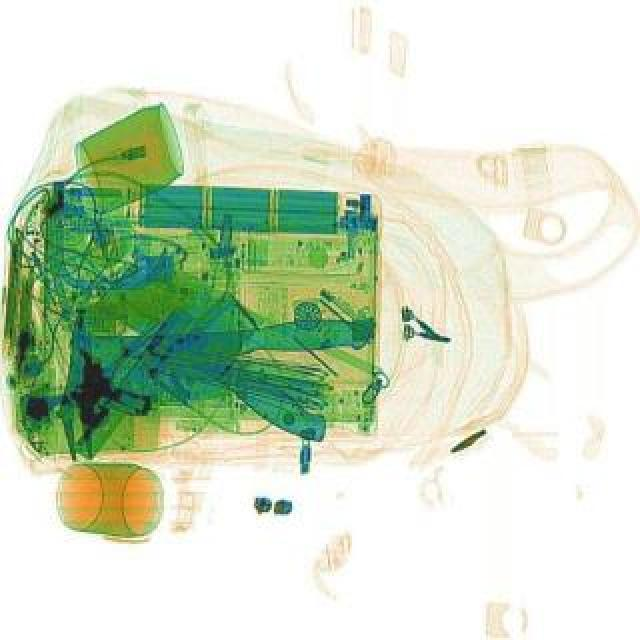knife: (92, 240, 366, 448), (66, 314, 378, 406)
